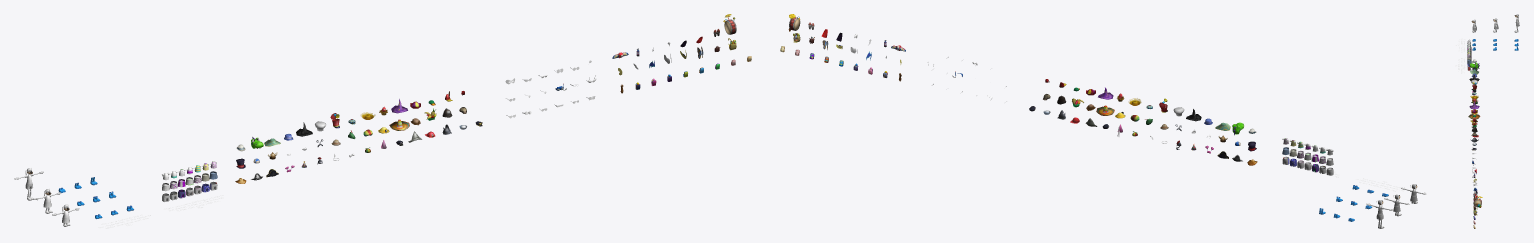
Rendered from toontown_pack.glb.
The picture shows the model from 3 angles, left to right: view 1: azimuth 30°, elevation 25°; view 2: azimuth 150°, elevation 25°; view 3: azimuth 270°, elevation 25°; orthographic projection. The views are drawn at different scales.
Parts seen in each view (by area): view 1: no part large enough to name; view 2: no part large enough to name; view 3: backpack_jamboree_pack_22, test_dog_large_123, text_clothes_info.001_2, test_dog_medium_124, test_dog_small_125, hat_sombrero_74, hat_toonosaur_109, hat_wizard_69.
Boxes of the visible parts, x1=… form: backpack_jamboree_pack_22: x1=1473, y1=196, x2=1482, y2=207; test_dog_large_123: x1=1514, y1=14, x2=1519, y2=32; text_clothes_info.001_2: x1=1455, y1=57, x2=1465, y2=73; test_dog_medium_124: x1=1493, y1=18, x2=1498, y2=32; test_dog_small_125: x1=1471, y1=19, x2=1476, y2=32; hat_sombrero_74: x1=1468, y1=113, x2=1480, y2=119; hat_toonosaur_109: x1=1469, y1=62, x2=1479, y2=69; hat_wizard_69: x1=1469, y1=101, x2=1479, y2=109.
Bounding box in the file's own units: 44.05 × 3.04 × 5.96.
100 materials, 99 textured.
